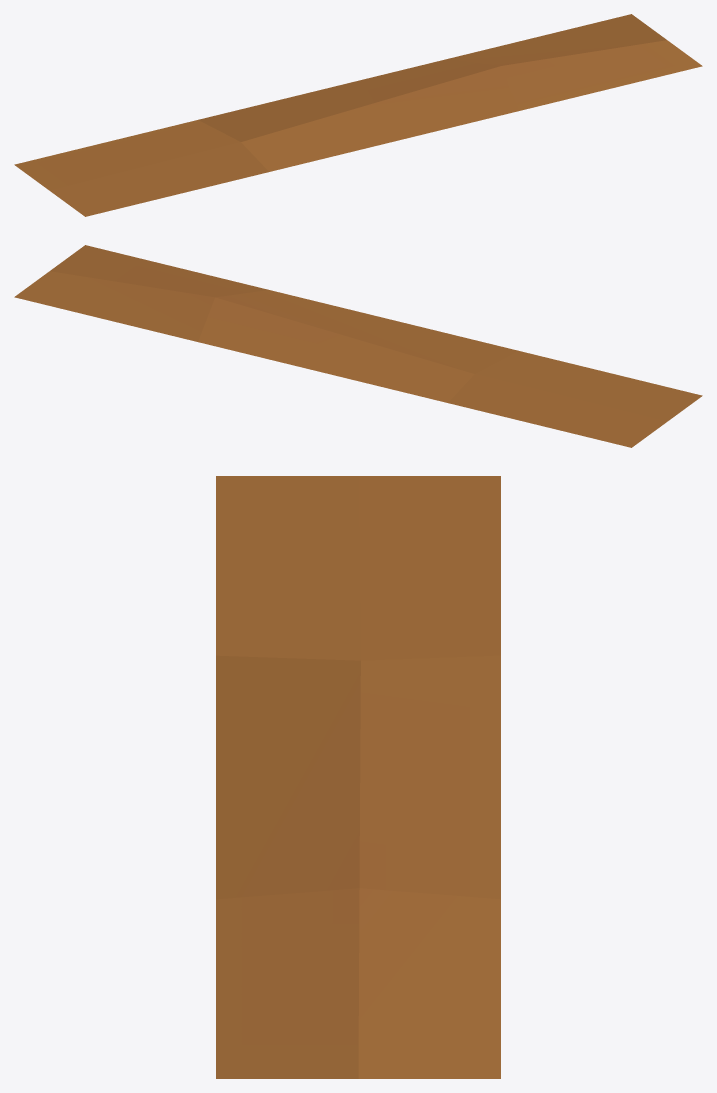
Rendered from cGround_C_Under_4__.fbx.
The picture shows the model from 3 angles, top to bottom: view 1: azimuth 30°, elevation 25°; view 2: azimuth 150°, elevation 25°; view 3: azimuth 270°, elevation 25°; orthographic projection. The views are drawn at different scales.
Visible parts, largest first — view 1: cGround_C_Under_4; view 2: cGround_C_Under_4; view 3: cGround_C_Under_4.
Part boxes in pixels (<box>): cGround_C_Under_4: <box>14,14,702,216</box>; cGround_C_Under_4: <box>14,245,702,447</box>; cGround_C_Under_4: <box>216,476,500,1078</box>.
Size of the model in its own units: 1000 by 22.27 by 200.
